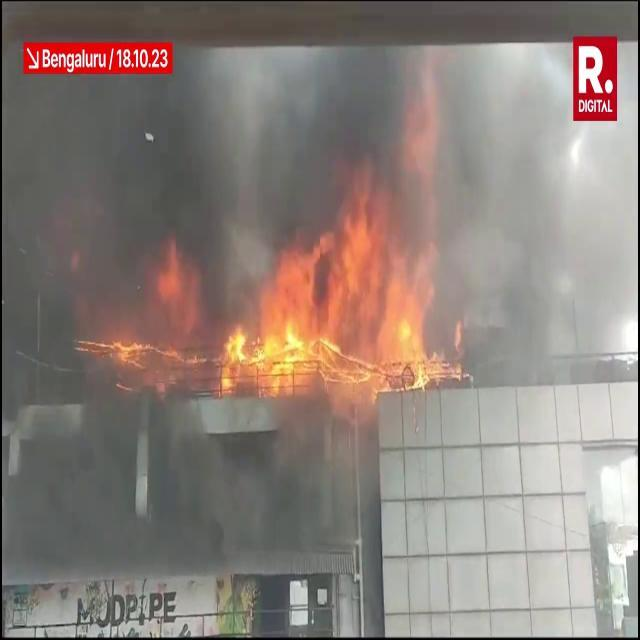Fire: (223, 190, 449, 393), (78, 322, 243, 402)
Smoke: (14, 49, 420, 304), (420, 51, 637, 388)
